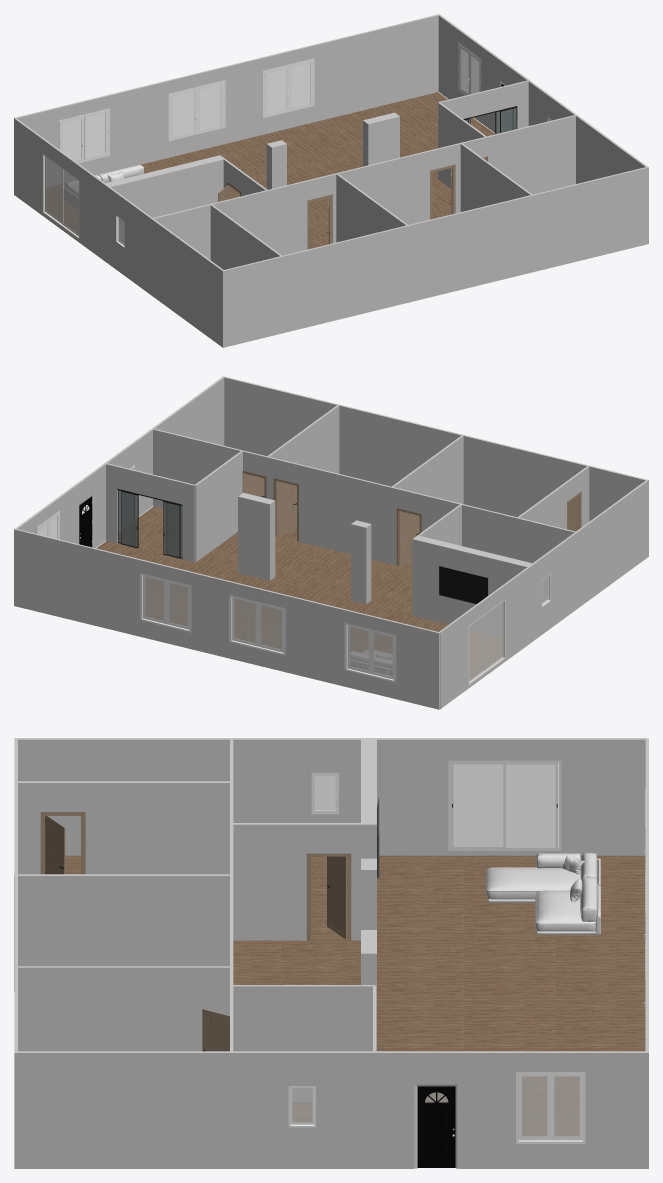
Rendered from home.glb.
3 views of the same model, one above another, from view 1: azimuth 30°, elevation 25°; view 2: azimuth 150°, elevation 25°; view 3: azimuth 270°, elevation 25° (orthographic). The views are drawn at different scales.
Visible parts, largest first — view 1: wall_2_3, wall_0_4, wall_3_3, room_0_1, wall_8_3, wall_1_4, wall_6_3, wall_12_4, wall_10_3, wall_9_3, wall_11_3, wall_4_4 (+18 smaller); view 2: wall_0_3, wall_2_4, room_0_1, wall_3_3, wall_8_4, wall_1_4, wall_12_3, wall_7_3, wall_4_3, wall_6_4, wall_15_3, wall_9_3 (+27 smaller); view 3: wall_1_3, room_0_1, wall_3_4, wall_10_4, wall_9_4, wall_11_4, wall_13_3, wall_7_4, wall_5_3, 9_1, 8_1, 9 (+29 smaller).
Boxes of the visible parts, left/top/right/bottom form: wall_2_3: left=223, top=167, right=648, bottom=347; wall_0_4: left=17, top=15, right=438, bottom=186; wall_3_3: left=14, top=119, right=222, bottom=347; room_0_1: left=46, top=92, right=494, bottom=248; wall_8_3: left=154, top=138, right=485, bottom=259; wall_1_4: left=438, top=16, right=645, bottom=183; wall_6_3: left=486, top=116, right=575, bottom=194; wall_12_4: left=111, top=159, right=223, bottom=242; wall_10_3: left=336, top=174, right=408, bottom=302; wall_9_3: left=460, top=144, right=530, bottom=211; wall_11_3: left=210, top=205, right=279, bottom=269; wall_4_4: left=441, top=81, right=528, bottom=128; wall_0_3: left=14, top=529, right=439, bottom=709; wall_2_4: left=224, top=377, right=645, bottom=521; room_0_1: left=96, top=506, right=543, bottom=679; wall_3_3: left=440, top=480, right=648, bottom=709; wall_8_4: left=243, top=451, right=574, bottom=600; wall_1_4: left=17, top=378, right=224, bottom=548; wall_12_3: left=412, top=539, right=526, bottom=636; wall_7_3: left=195, top=452, right=242, bottom=561; wall_4_3: left=106, top=464, right=195, bottom=562; wall_6_4: left=153, top=429, right=240, bottom=512; wall_15_3: left=238, top=496, right=272, bottom=580; wall_9_3: left=269, top=406, right=339, bottom=473; wall_1_3: left=14, top=1053, right=648, bottom=1168; room_0_1: left=65, top=855, right=645, bottom=1135; wall_3_4: left=18, top=739, right=645, bottom=855; wall_10_4: left=14, top=876, right=229, bottom=991; wall_9_4: left=18, top=967, right=229, bottom=1051; wall_11_4: left=18, top=783, right=229, bottom=874; wall_13_3: left=233, top=824, right=376, bottom=940; wall_7_4: left=233, top=986, right=372, bottom=1101; wall_5_3: left=230, top=1065, right=376, bottom=1168; 9_1: left=453, top=764, right=503, bottom=846; 8_1: left=506, top=764, right=555, bottom=846; 9: left=417, top=1086, right=455, bottom=1167.
Bounding box in the file's own units: 1630 × 280 × 1390.
27 materials, 2 textured.
